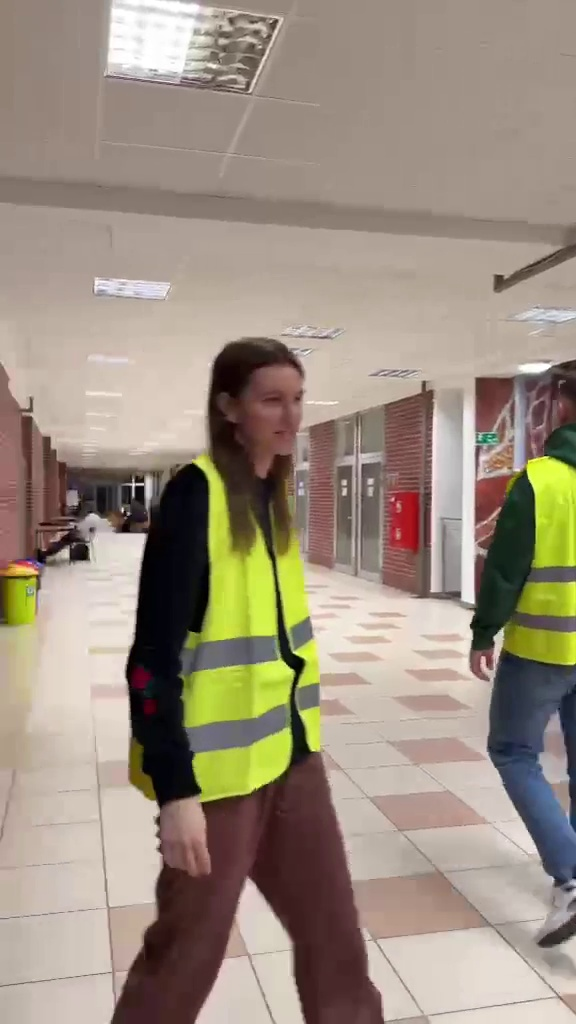vest: (108, 331, 387, 1023), (475, 360, 576, 949)
